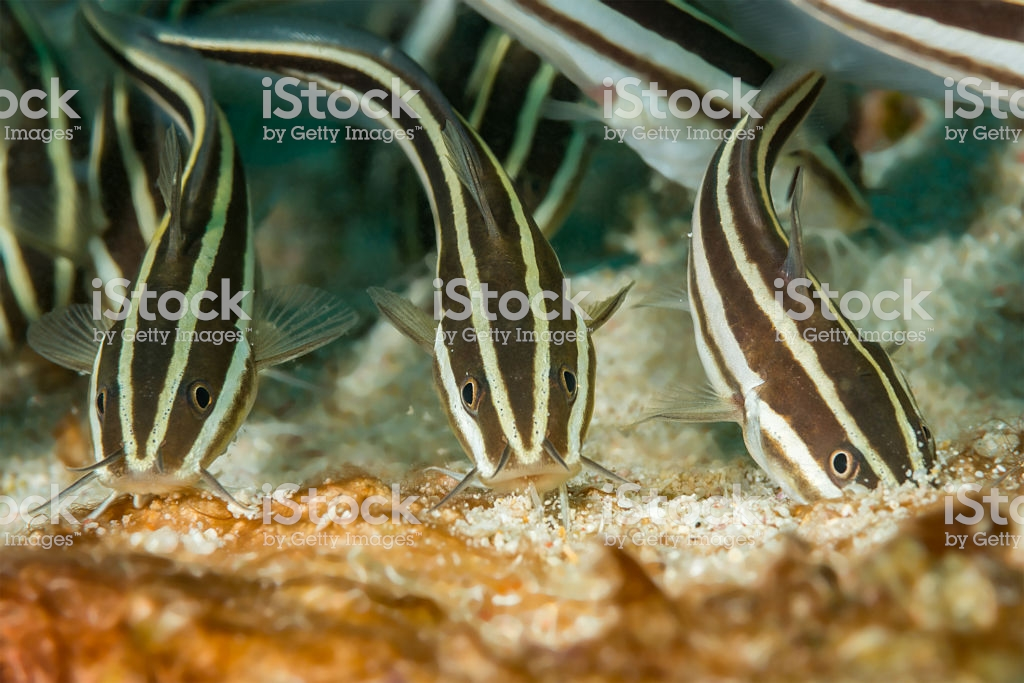gonzui: (304, 1, 654, 526), (682, 63, 997, 517), (73, 1, 309, 534)
